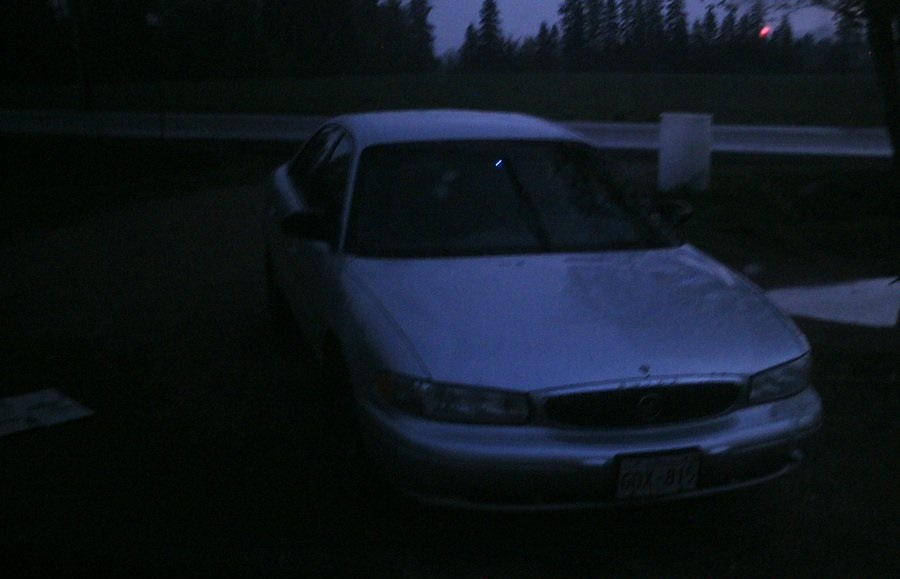car: (242, 102, 833, 538)
